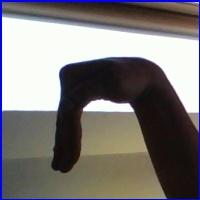A: (59, 54, 176, 179)
